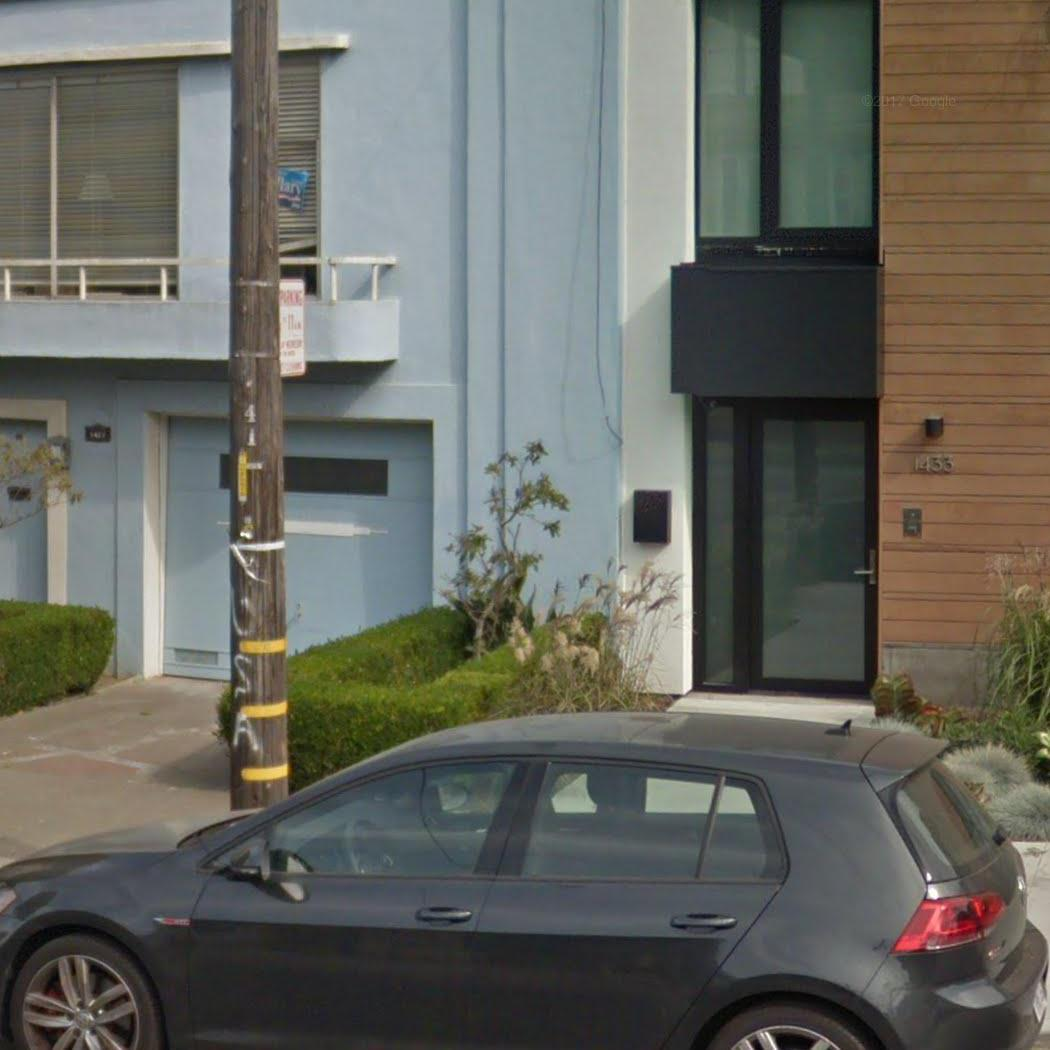No Parking: (276, 277, 308, 379)
